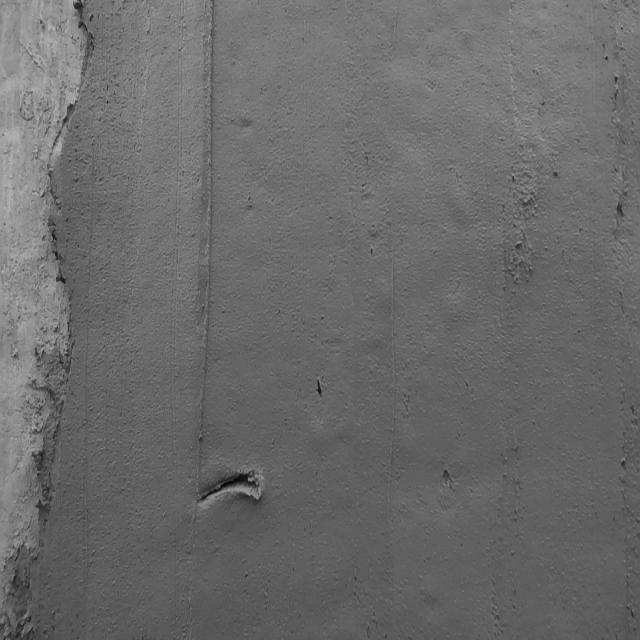trowels marks: (195, 0, 215, 469)
